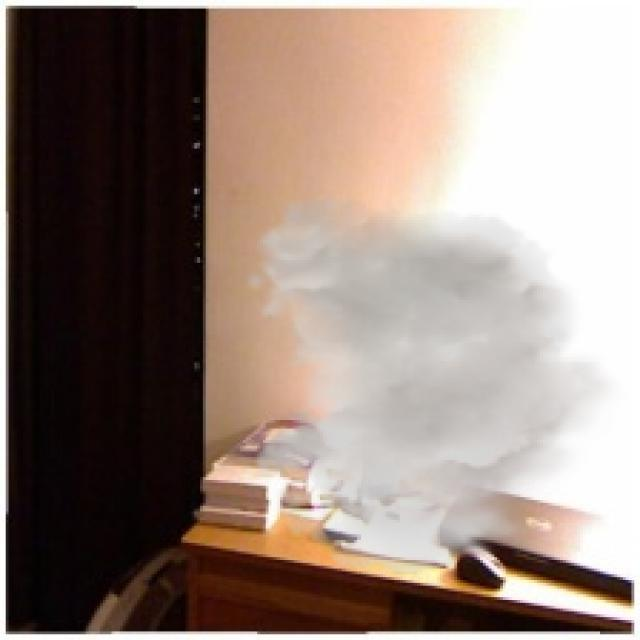Smoke: (240, 195, 629, 574)
